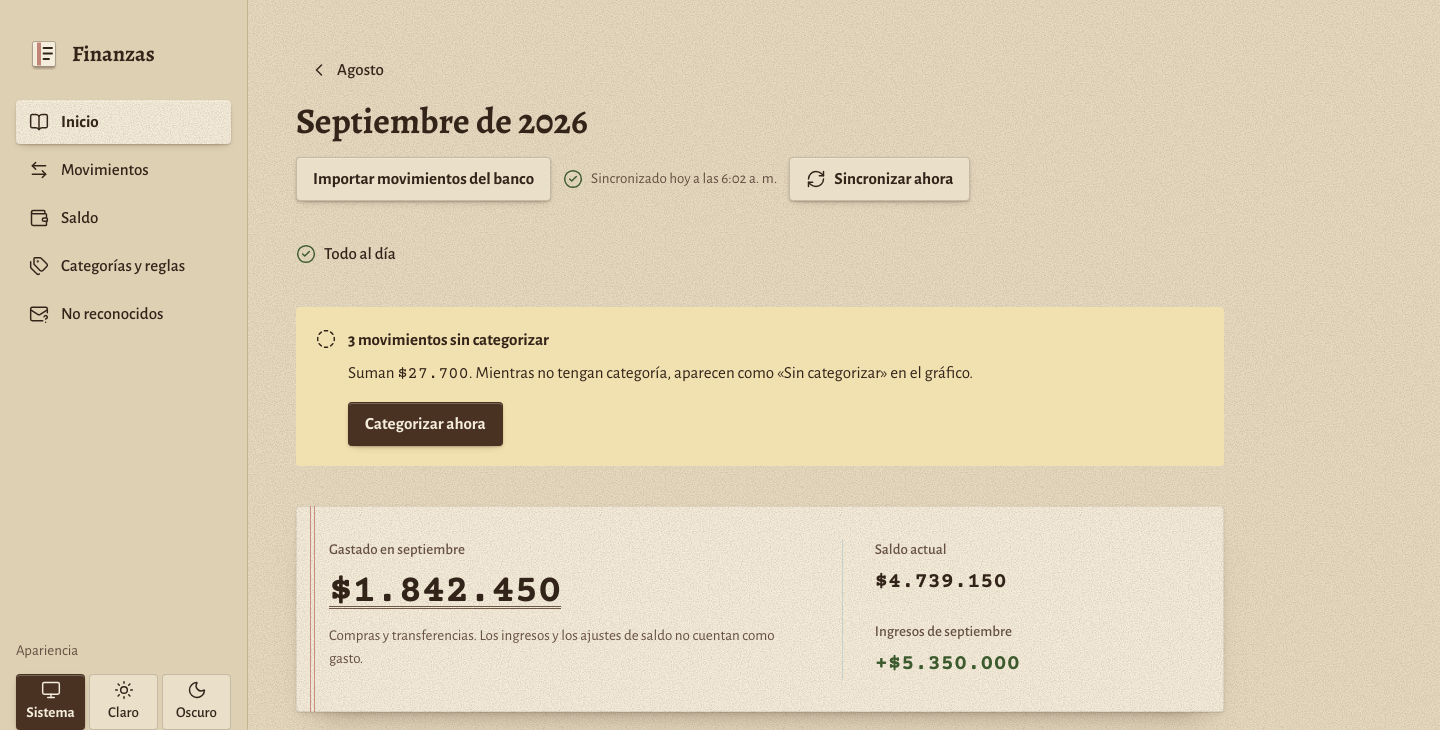
Scenario: Inicio: sincronización › si el servidor falla (5xx), lo dice junto al botón
Click the button "Sincronizar ahora" at coordinates (880, 179), box [789,157,970,201]
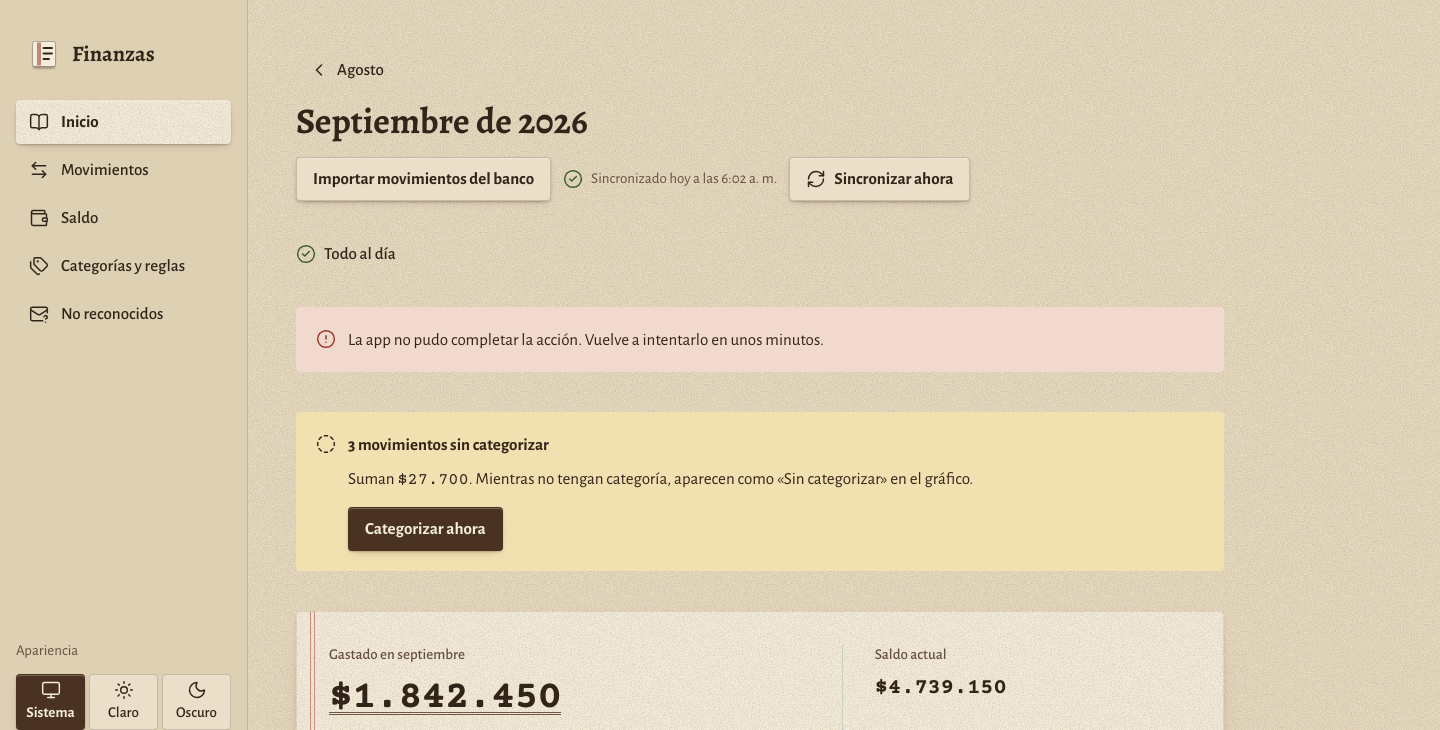
Check: the message "La app no pudo completar la acción. Vuelve a intentarlo en unos minutos." is shown, box [296,307,1224,372]
